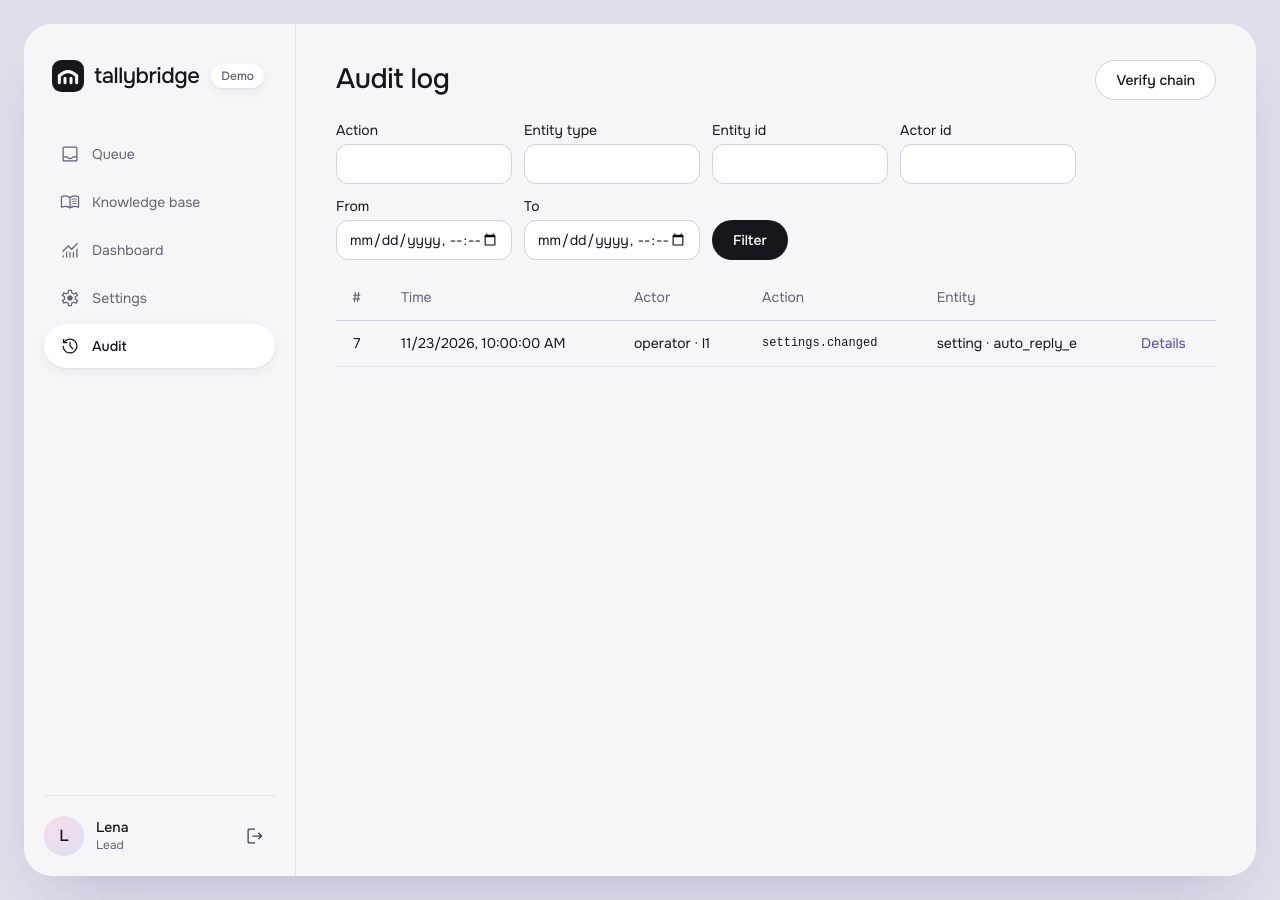
Test: audit › lists records, opens the JSON and verifies the chain
Expected: the text "settings.changed" is shown, [746, 320, 921, 366]
Click the button "Details".
click(1163, 343)  # box [1141, 332, 1186, 354]
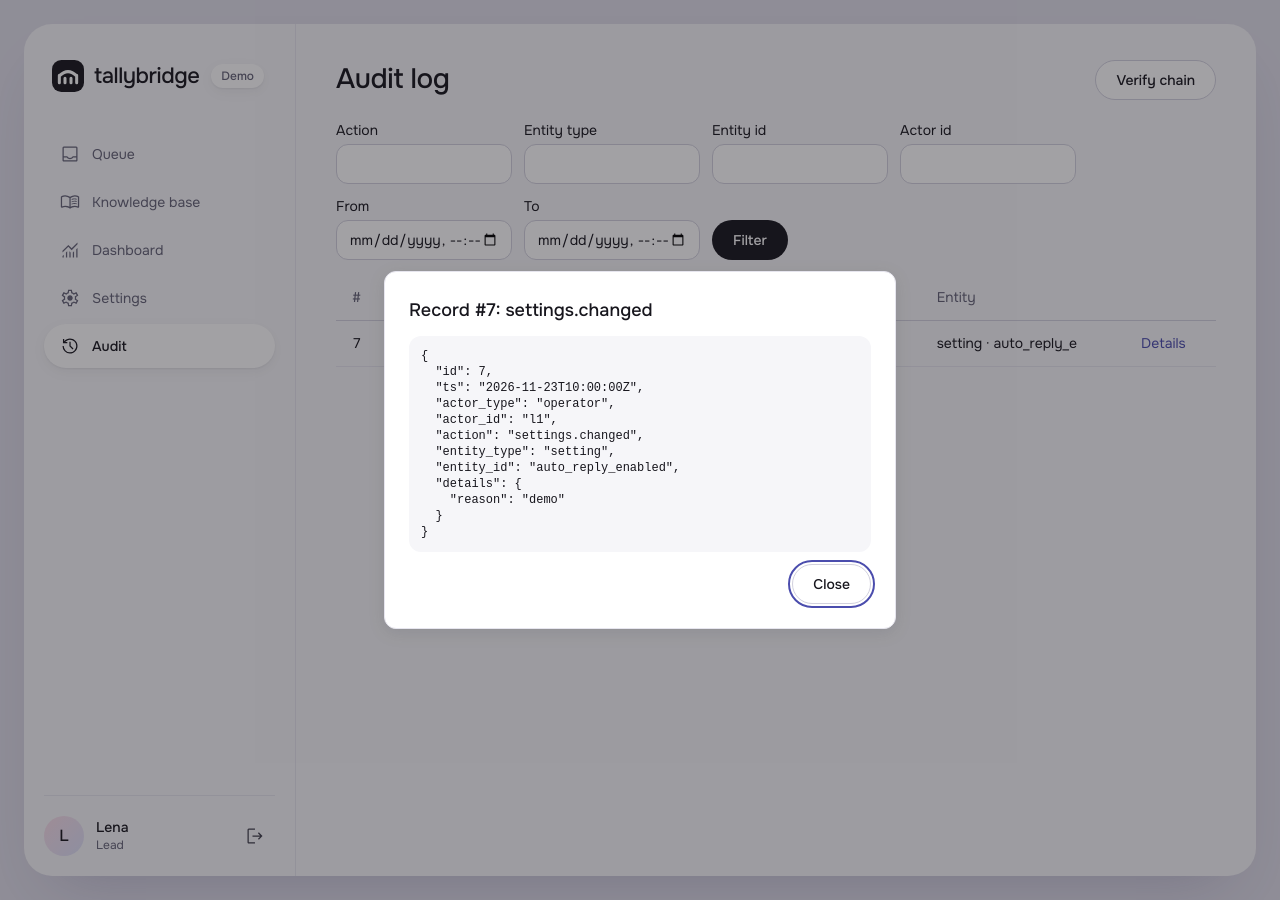
Now the dialog shows "\"reason\": \"demo\"", box [421, 349, 680, 539]
Click the button "Close".
click(832, 584)  # box [792, 564, 871, 604]
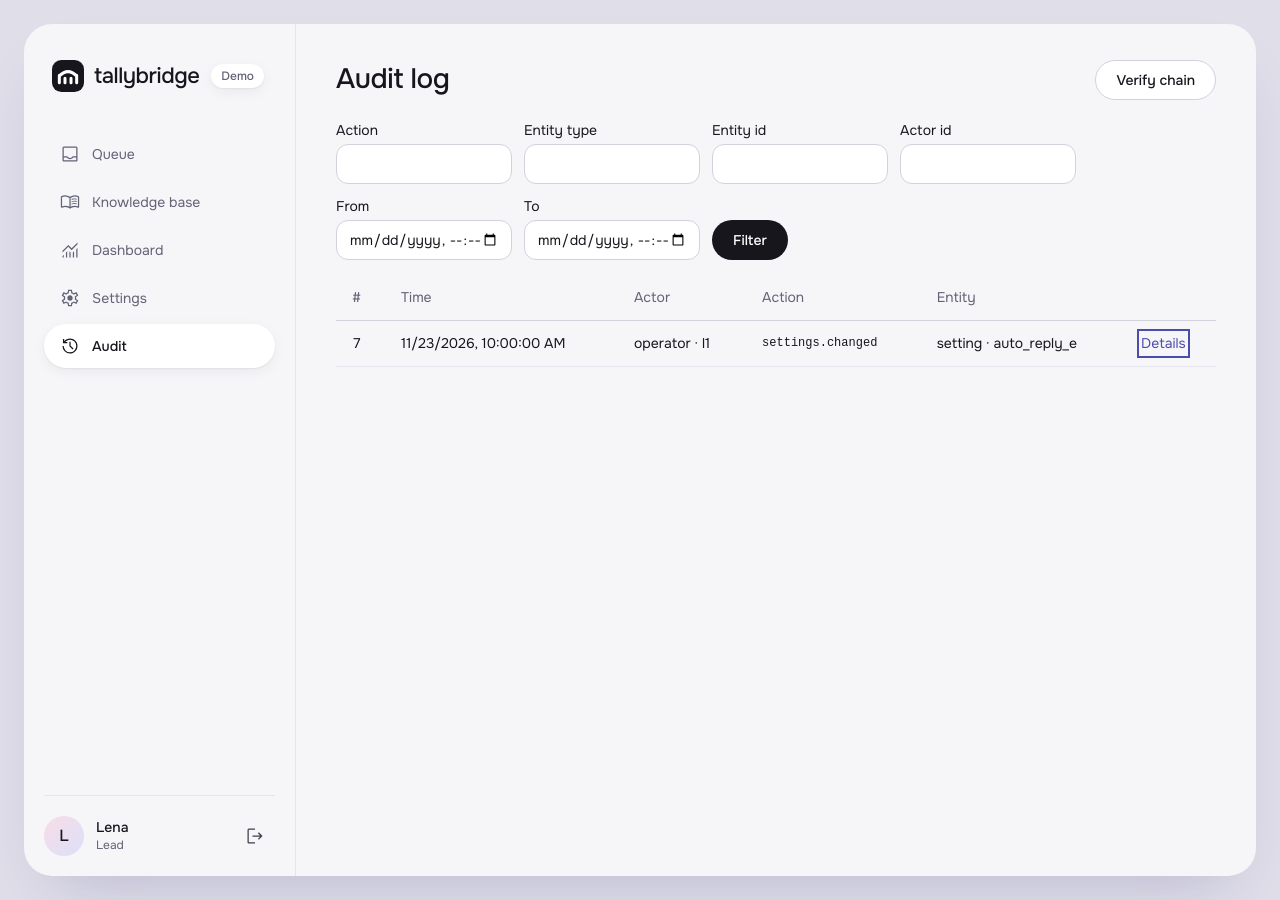
Type "settings.changed" into the field labelled "Action".
click(424, 164); type("settings.changed")  # box [336, 144, 512, 184]
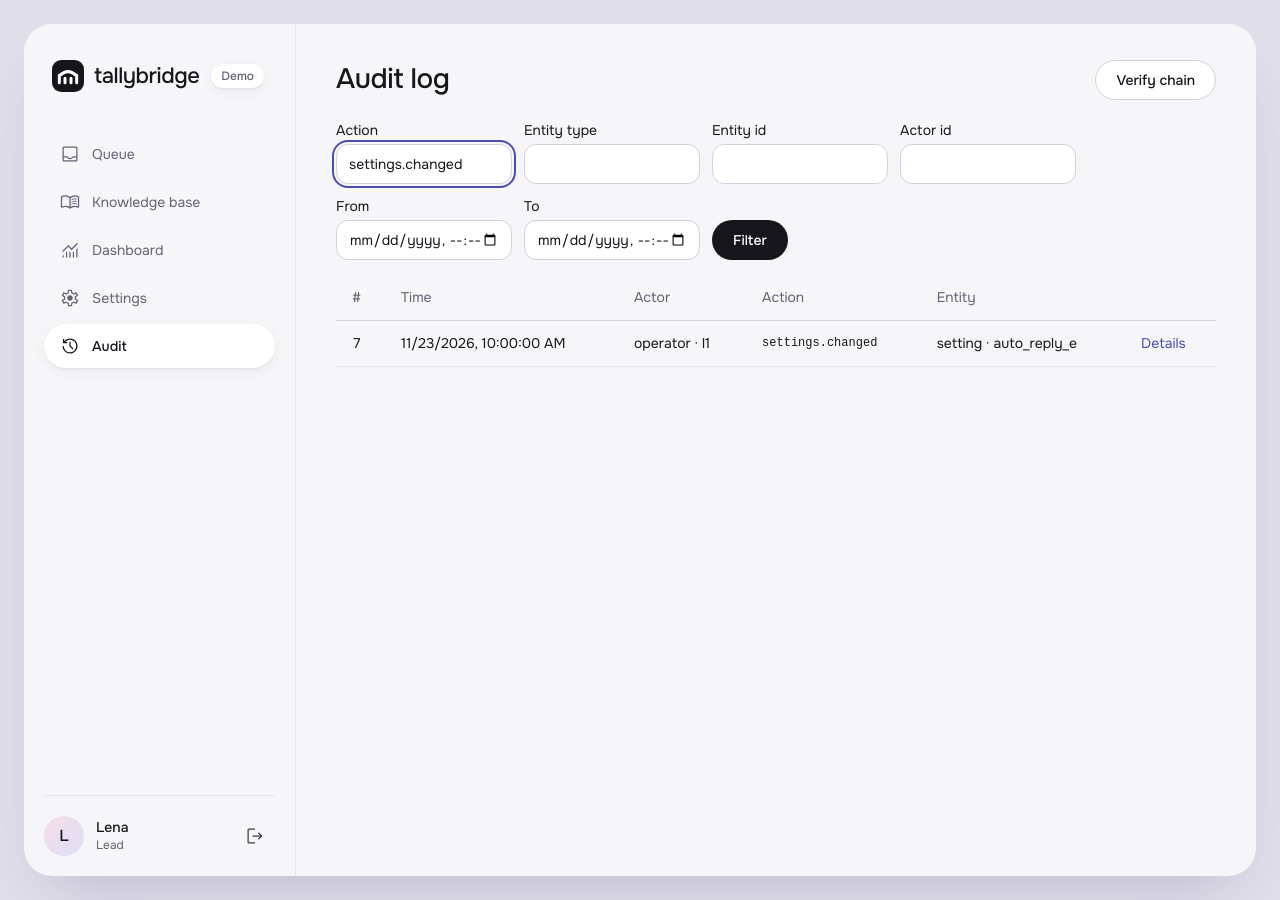
Click the button "Filter".
click(750, 240)  # box [712, 220, 788, 260]
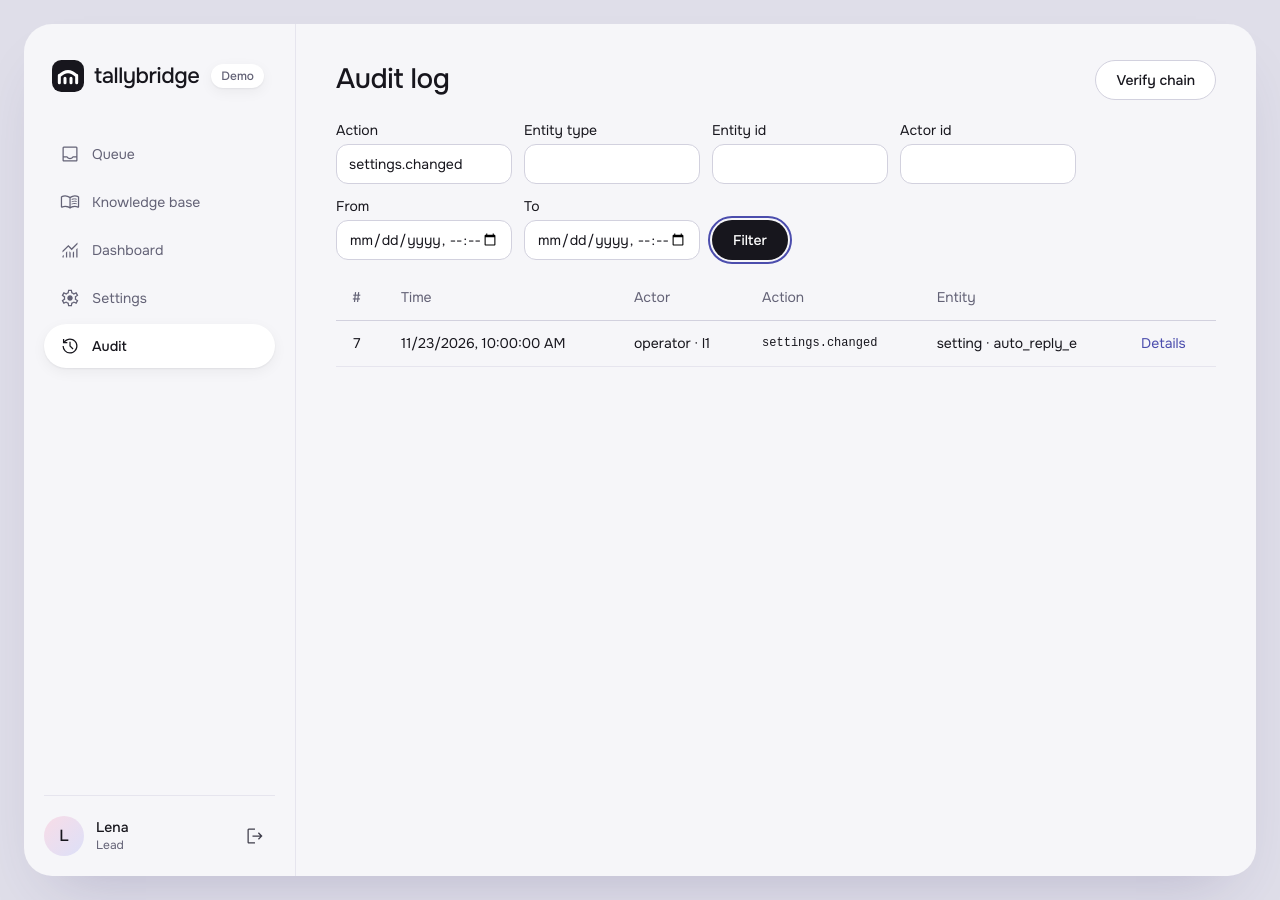
Click the button "Verify chain".
click(1156, 80)  # box [1095, 60, 1216, 100]
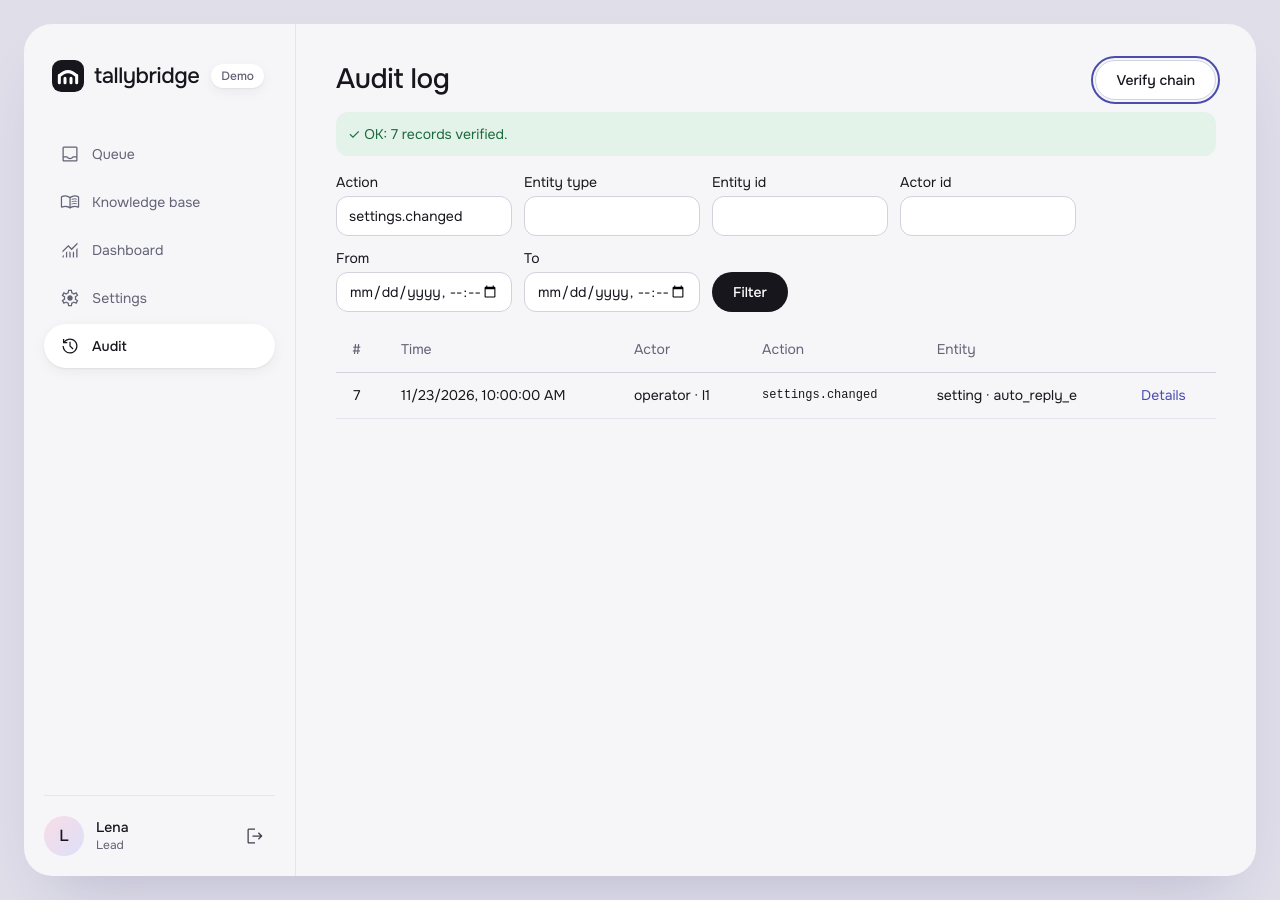
Now the message shows "OK: 7 records verified.", box [348, 125, 508, 143]
